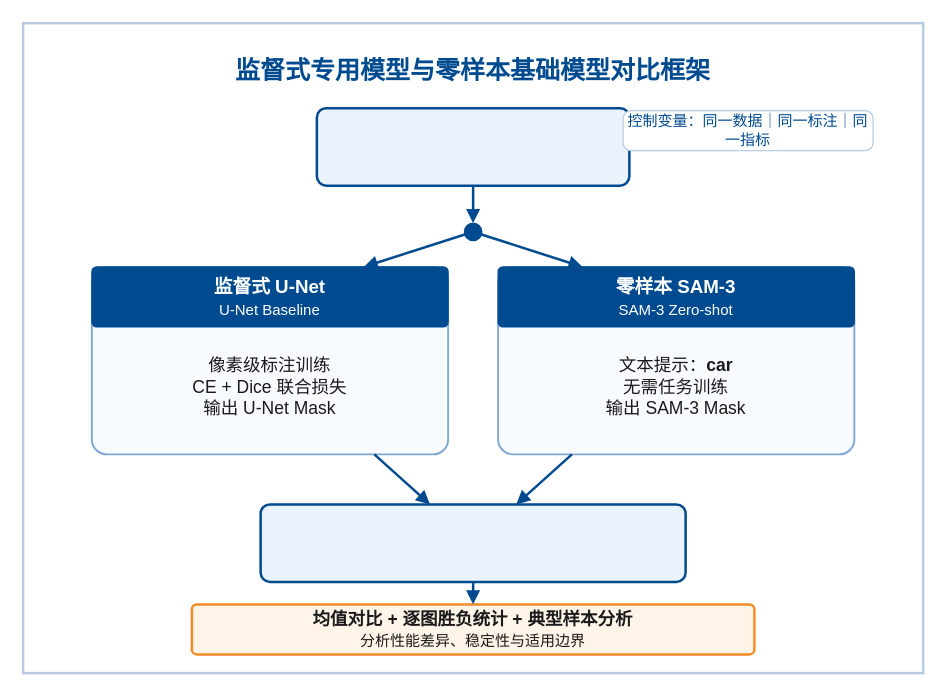
Some shapes in this 945 by 695 pixel diagram are drawn without their labels. The shapes that lost their labels are listed below. From the top down, each one's centre as x and y in pixels, then its label:
At (x=472, y=146): "Carvana 验证图像 统一输入图像".
At (x=472, y=542): "与同一 GT Mask 计算指标 Dice / IoU 逐图评估".
